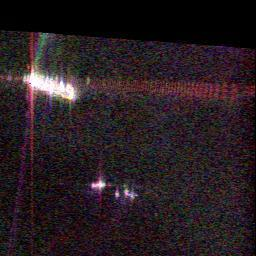Ship: (20, 70, 76, 108), (87, 178, 108, 190)
